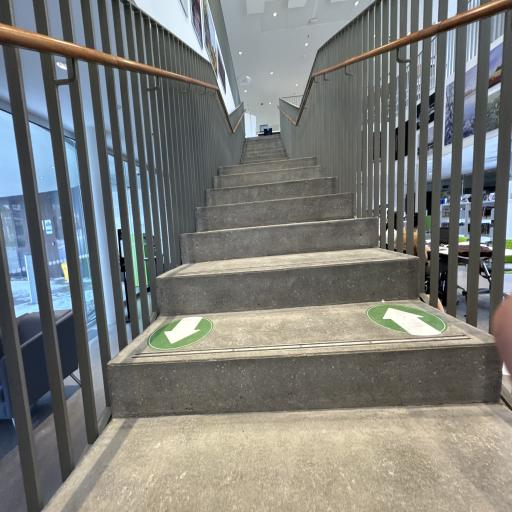Stairs: (47, 135, 512, 512), (108, 137, 501, 417), (45, 404, 512, 512)
